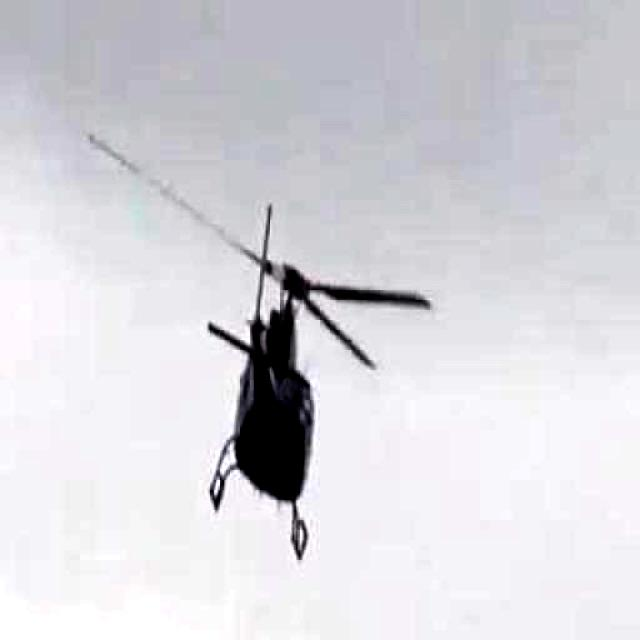drone: (36, 75, 492, 640)
